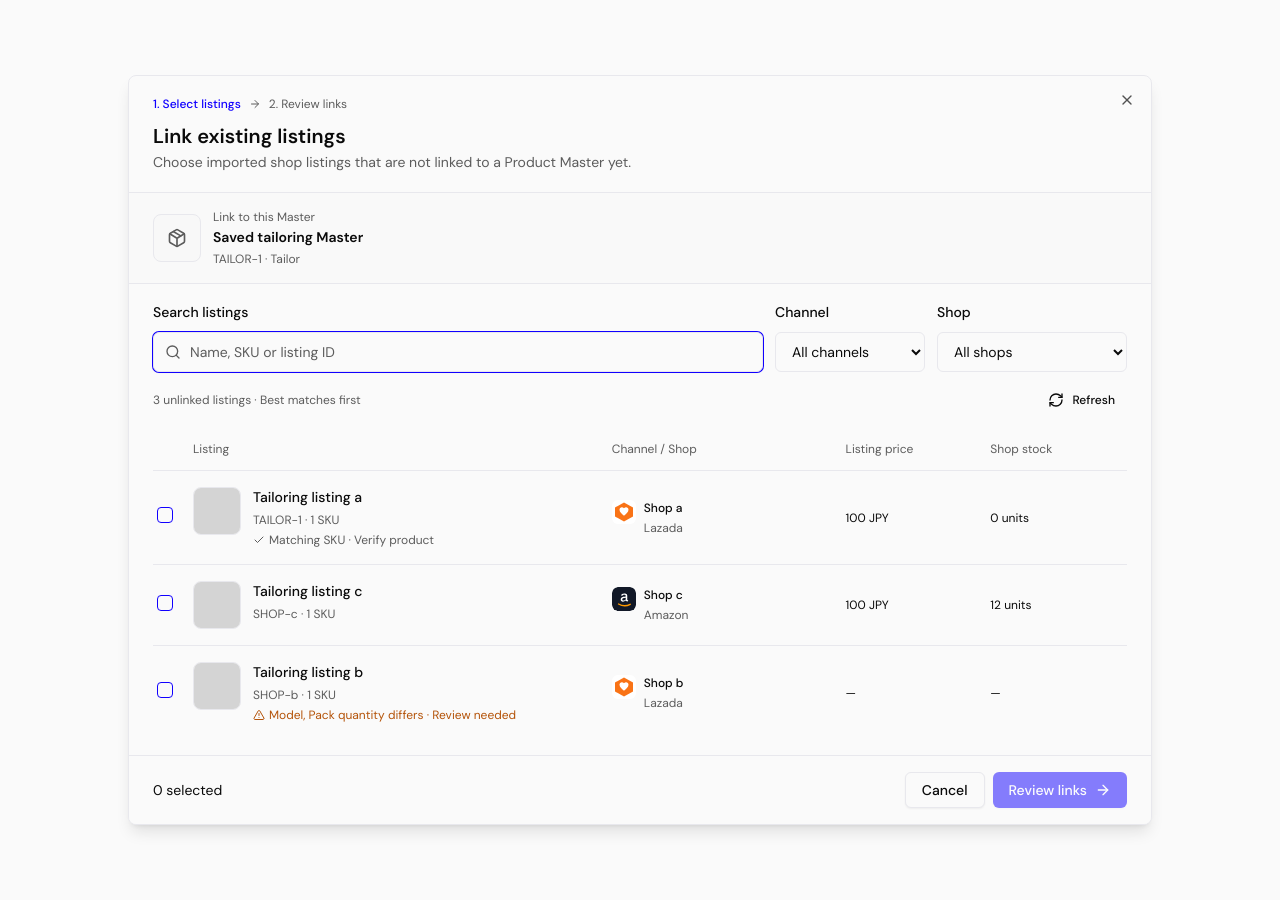
Link existing listings from a fixed Master › keeps zero stock distinct from unavailable data and exposes identity differences in review
The width and height of the screenshot is (1280, 900).
Expected: the text "—" is shown 2 times, [838,646,982,739]; [982,646,1127,739]
Click the checkbox named "Select SHOP-b from Shop b": (165, 690) [157,682,173,698]
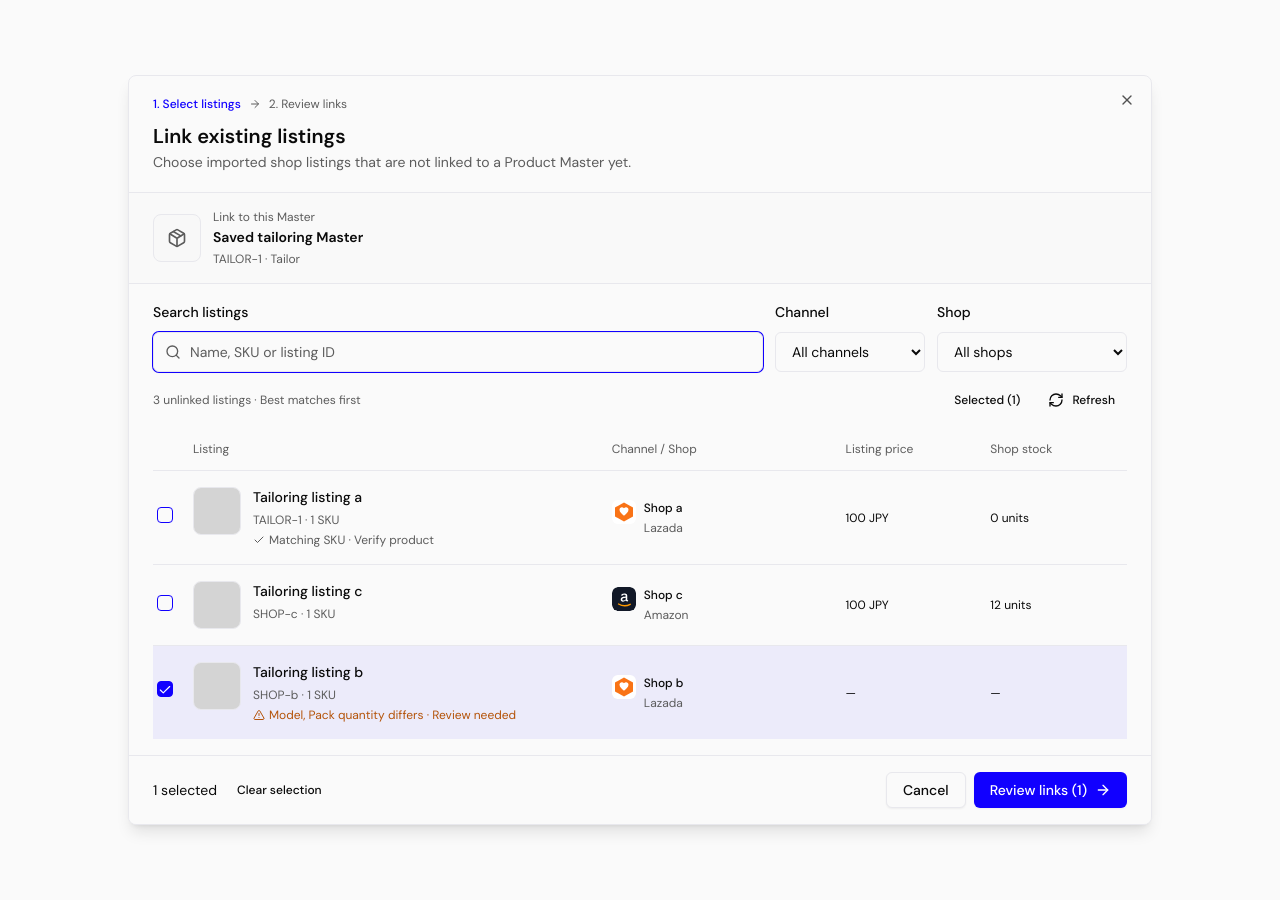
Click the button "Review links (1)": (1050, 790) [974,772,1127,808]
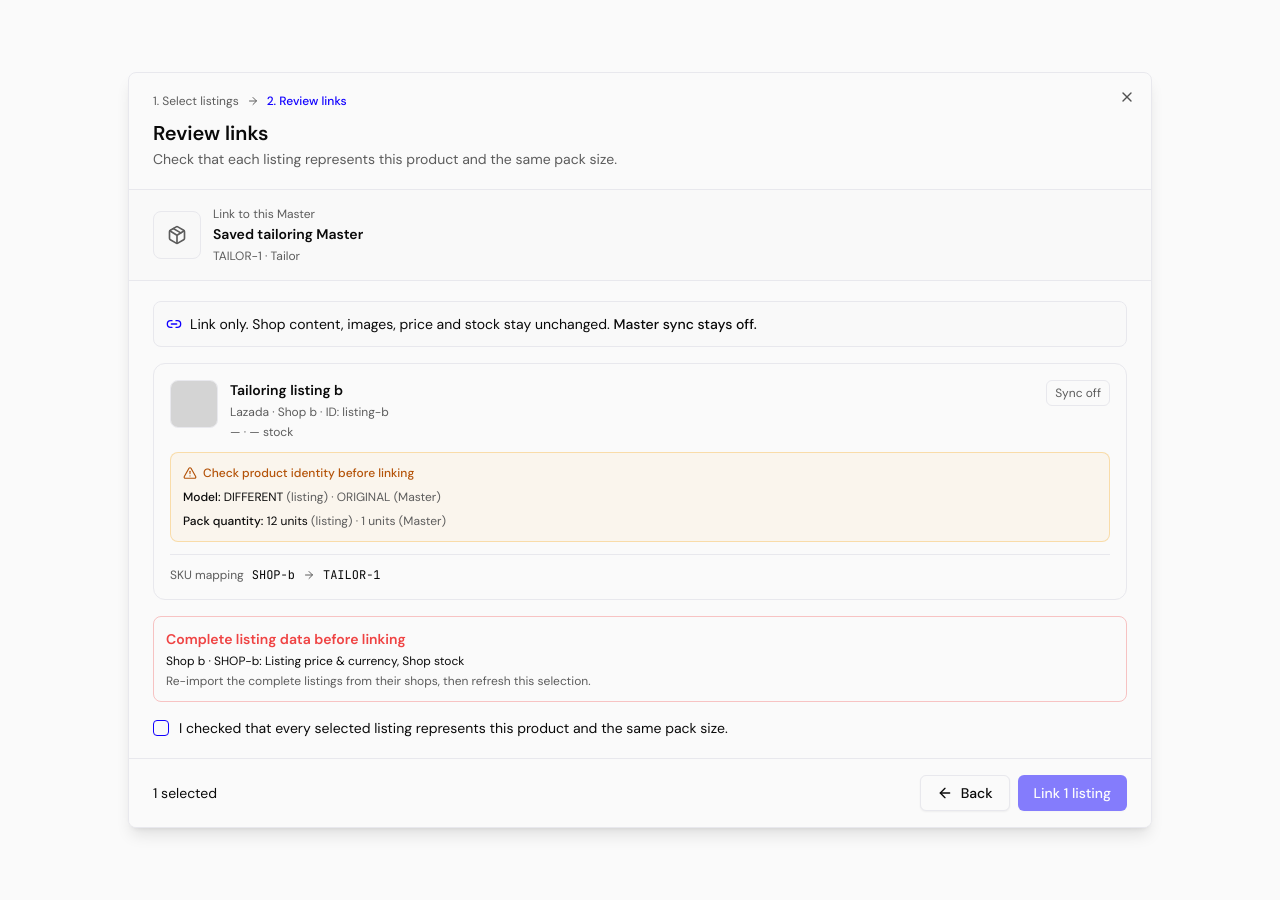
Expected: the text "Check product identity before linking" is shown, [183,465,414,481]
Expected: the text "Model: DIFFERENT (listing) · ORIGINAL (Master)" is shown, [183,489,441,505]
Expected: the text "Pack quantity: 12 units (listing) · 1 units (Master)" is shown, [183,513,446,529]
